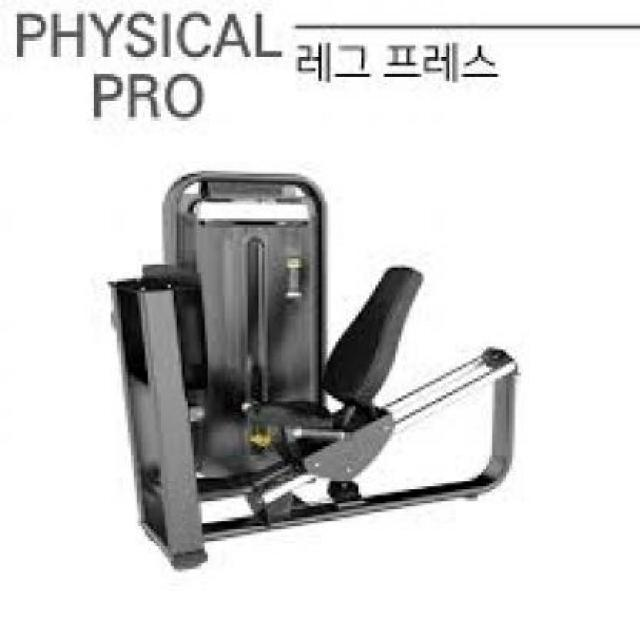leg press: (102, 158, 548, 584)
